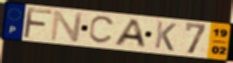7: (184, 22, 208, 57)
A: (112, 18, 149, 50)
C: (87, 15, 117, 45)
F: (22, 6, 54, 40)
K: (153, 20, 178, 52)
N: (49, 10, 86, 43)
